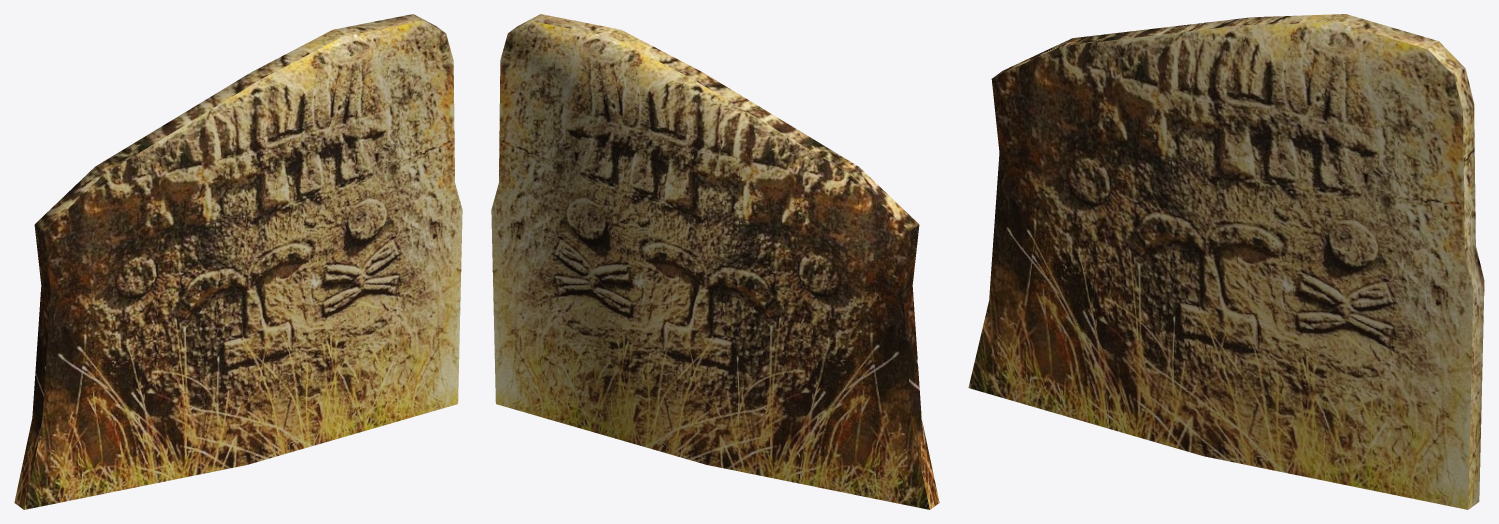
The model's file is Rock10.FBX.
The picture shows the model from 3 angles, left to right: view 1: azimuth 30°, elevation 25°; view 2: azimuth 150°, elevation 25°; view 3: azimuth 330°, elevation 25°; orthographic projection. The views are drawn at different scales.
Visible parts, largest first — view 1: 10Rock; view 2: 10Rock; view 3: 10Rock.
Boxes of the visible parts, bbox=[...] form: 10Rock: bbox=[14, 14, 462, 509]; 10Rock: bbox=[491, 14, 939, 509]; 10Rock: bbox=[968, 14, 1484, 509].
Bounding box in the file's own units: 8.75 × 7.54 × 1.
